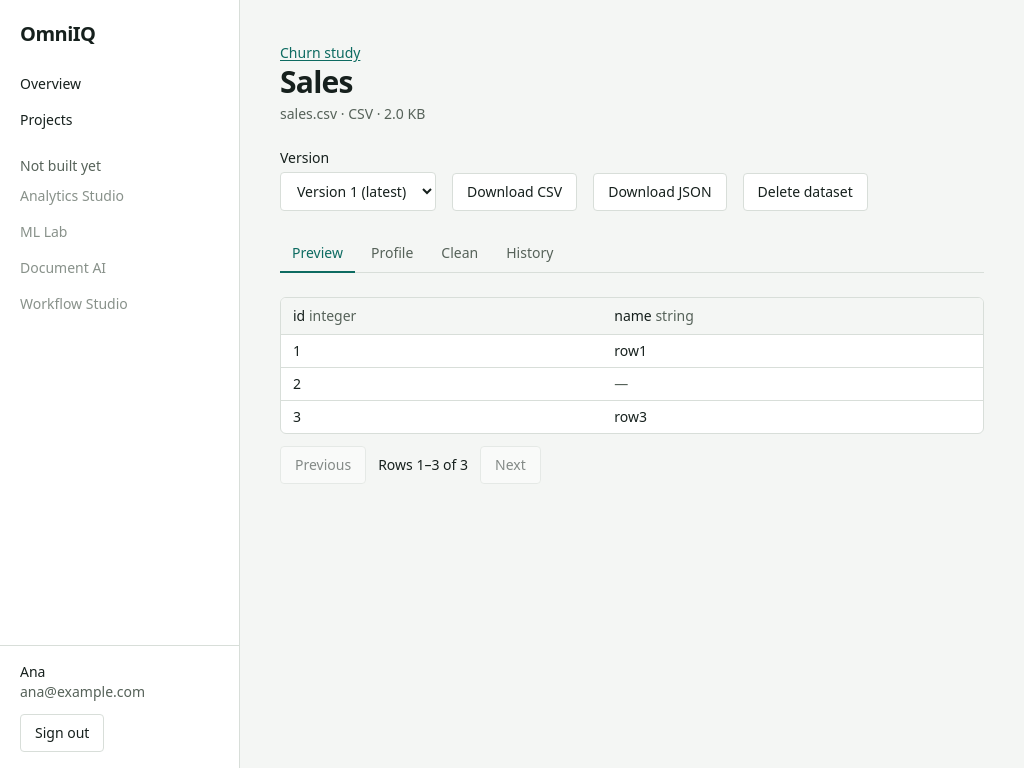
Test case: Preview, Profile, History › shows the quality profile
What coordinates should you click on to do the following:
click the tab "Profile"
I would click on:
 (392, 254)
Its box is [359,235,425,273].
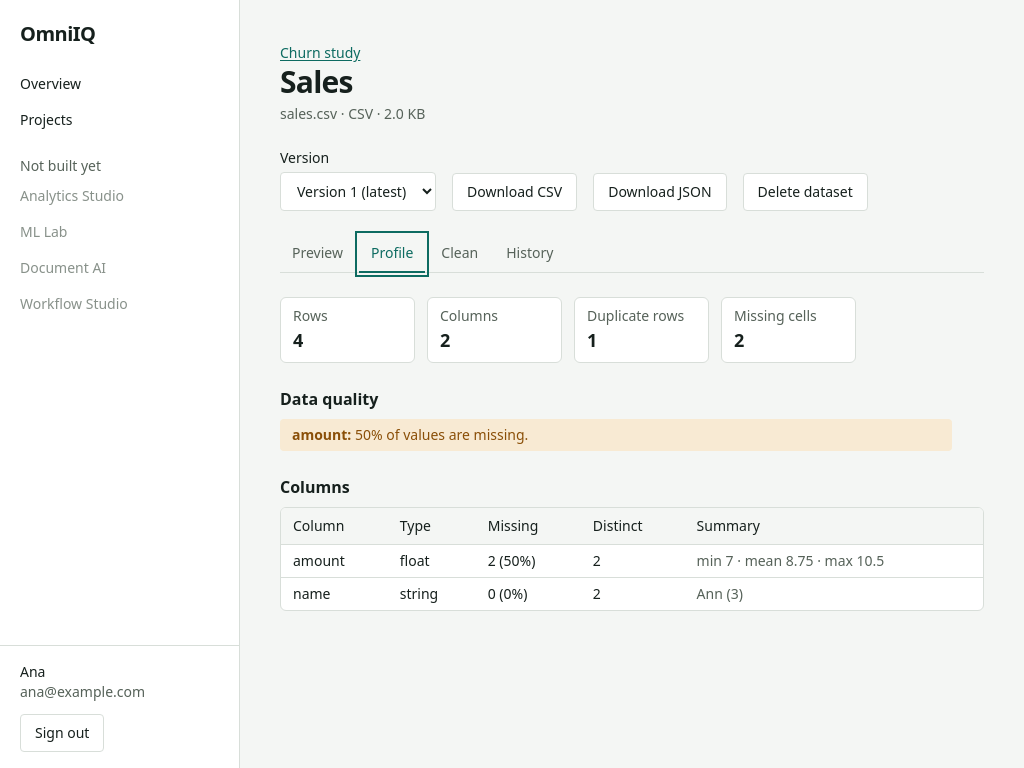
Now the text "Duplicate rows" is shown, box [587,306,696,326]
Now the list item "50% of values are missing." is shown, box [355,425,528,444]
Now the text "min 7 · mean 8.75 · max 10.5" is shown, box [685,544,983,578]
